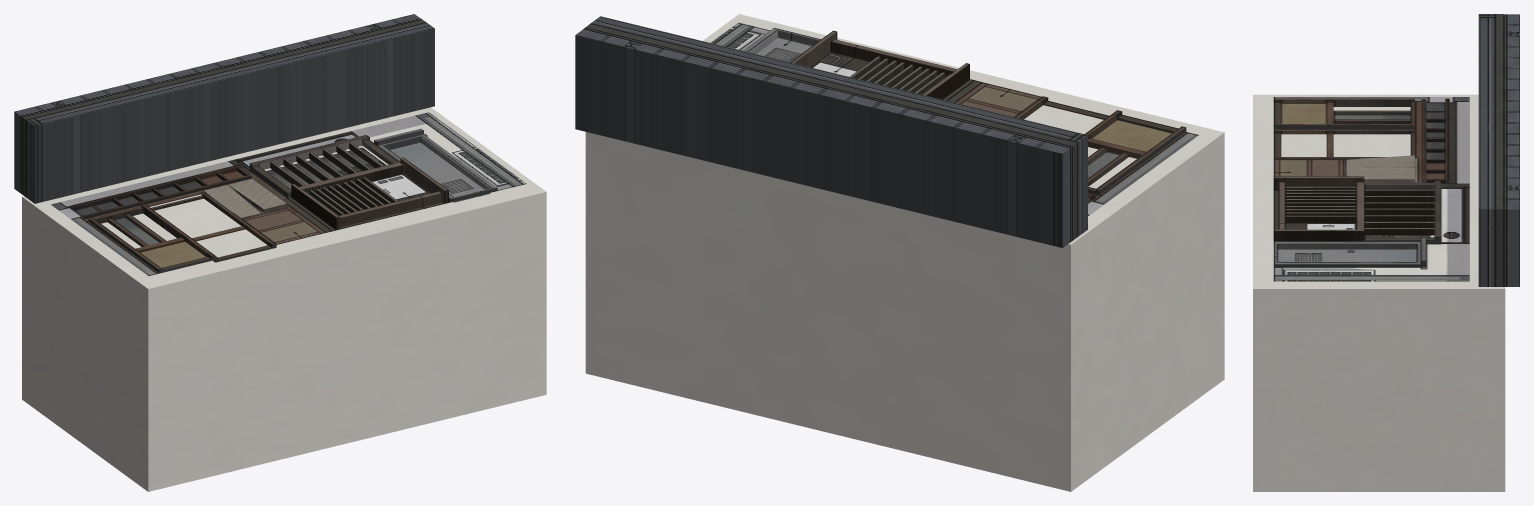
3 views of the same model, side by side, from view 1: azimuth 30°, elevation 25°; view 2: azimuth 150°, elevation 25°; view 3: azimuth 270°, elevation 25° (orthographic). The views are drawn at different scales.
Parts seen in each view (by area): view 1: Cube, Plane.042, Plane.001, Plane.032, Plane, Plane.030, Plane.002, Plane.027, Plane.005, Plane.031, Plane.010, Plane.003 (+4 smaller); view 2: Cube, Plane.042, Plane.032, Plane, Plane.030, Plane.001, Plane.010, Plane.005, Plane.007, Plane.008; view 3: Cube, Plane.042, Plane.001, Plane.032, Plane, Plane.002, Plane.030, Plane.027, Plane.003, Plane.031, Plane.008, Plane.007 (+12 smaller).
Part boxes in pixels (bbox=[...]): Cube: bbox=[22, 107, 546, 491]; Plane.042: bbox=[14, 14, 434, 203]; Plane.001: bbox=[353, 119, 497, 202]; Plane.032: bbox=[88, 204, 215, 273]; Plane: bbox=[51, 112, 526, 276]; Plane.030: bbox=[203, 178, 325, 244]; Plane.002: bbox=[235, 131, 399, 197]; Plane.027: bbox=[71, 164, 251, 218]; Plane.005: bbox=[288, 173, 449, 230]; Plane.031: bbox=[151, 193, 276, 262]; Plane.010: bbox=[338, 191, 442, 226]; Plane.003: bbox=[62, 161, 234, 208]; Cube: bbox=[585, 14, 1224, 491]; Plane.042: bbox=[575, 16, 1087, 247]; Plane.032: bbox=[1085, 110, 1186, 194]; Plane: bbox=[711, 22, 1198, 215]; Plane.030: bbox=[955, 82, 1041, 116]; Plane.001: bbox=[743, 28, 820, 62]; Plane.010: bbox=[830, 39, 956, 76]; Plane.005: bbox=[810, 52, 973, 100]; Plane.007: bbox=[923, 63, 969, 99]; Plane.008: bbox=[790, 30, 837, 66]; Cube: bbox=[1253, 94, 1505, 491]; Plane.042: bbox=[1478, 14, 1519, 286]; Plane.001: bbox=[1273, 237, 1469, 267]; Plane.032: bbox=[1273, 98, 1414, 129]; Plane: bbox=[1273, 97, 1469, 281]; Plane.002: bbox=[1364, 181, 1469, 244]; Plane.030: bbox=[1273, 155, 1414, 182]; Plane.027: bbox=[1421, 98, 1449, 183]; Plane.003: bbox=[1449, 102, 1469, 183]; Plane.031: bbox=[1273, 129, 1414, 159]; Plane.008: bbox=[1273, 229, 1364, 241]; Plane.007: bbox=[1273, 176, 1364, 190].
Bounding box in the file's own units: 985 × 667 × 569.
Materials: 28 (28 with a texture image).
